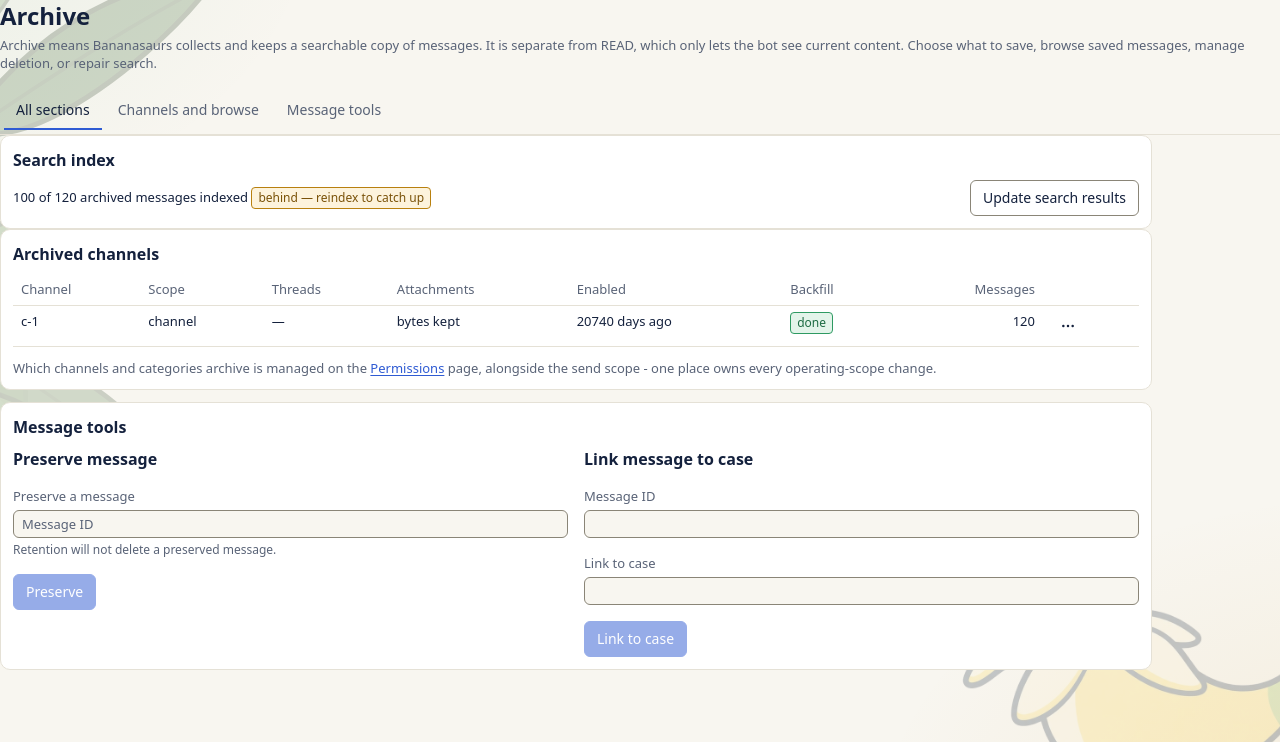
Test: ArchivePage › browse lists a channel newest-first, marks tombstones, and opens one message
Click the button named "Actions for c-1" at (1068, 326), box x1=1051 y1=312 x2=1085 y2=340
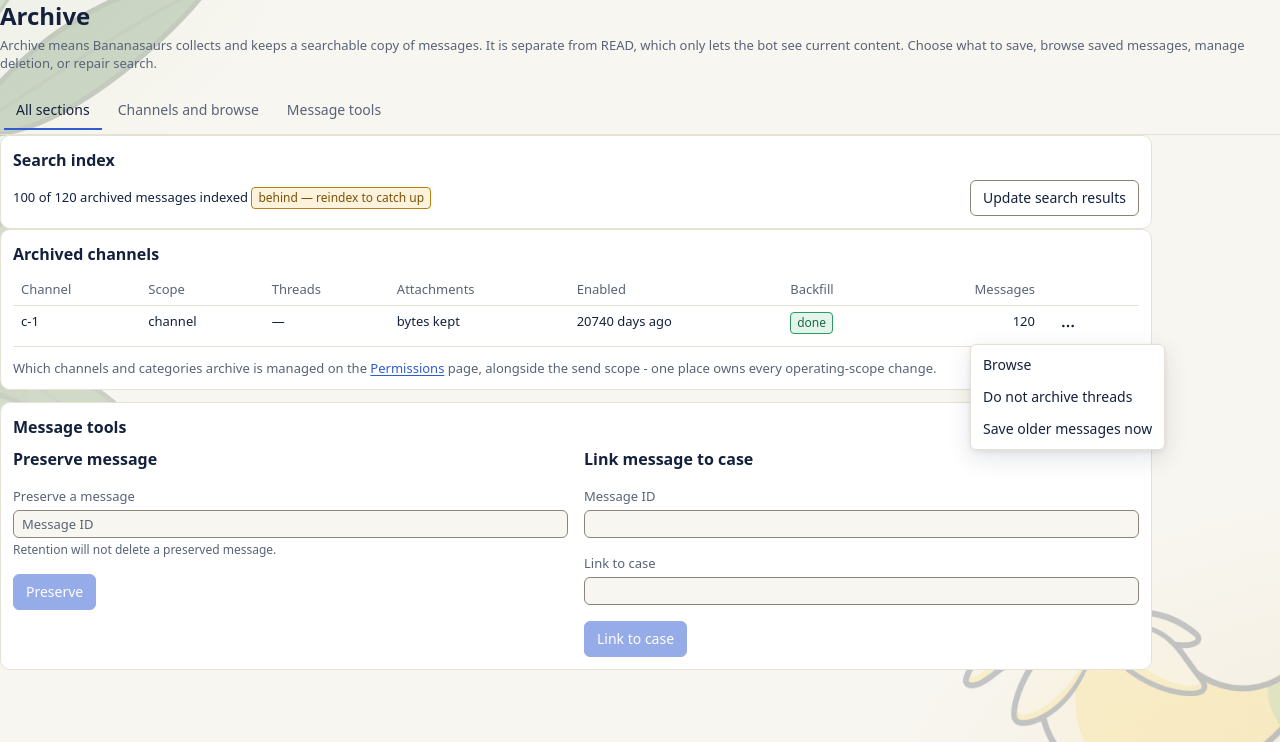
Click the menu item "Browse" at (1007, 364), box x1=983 y1=355 x2=1031 y2=374
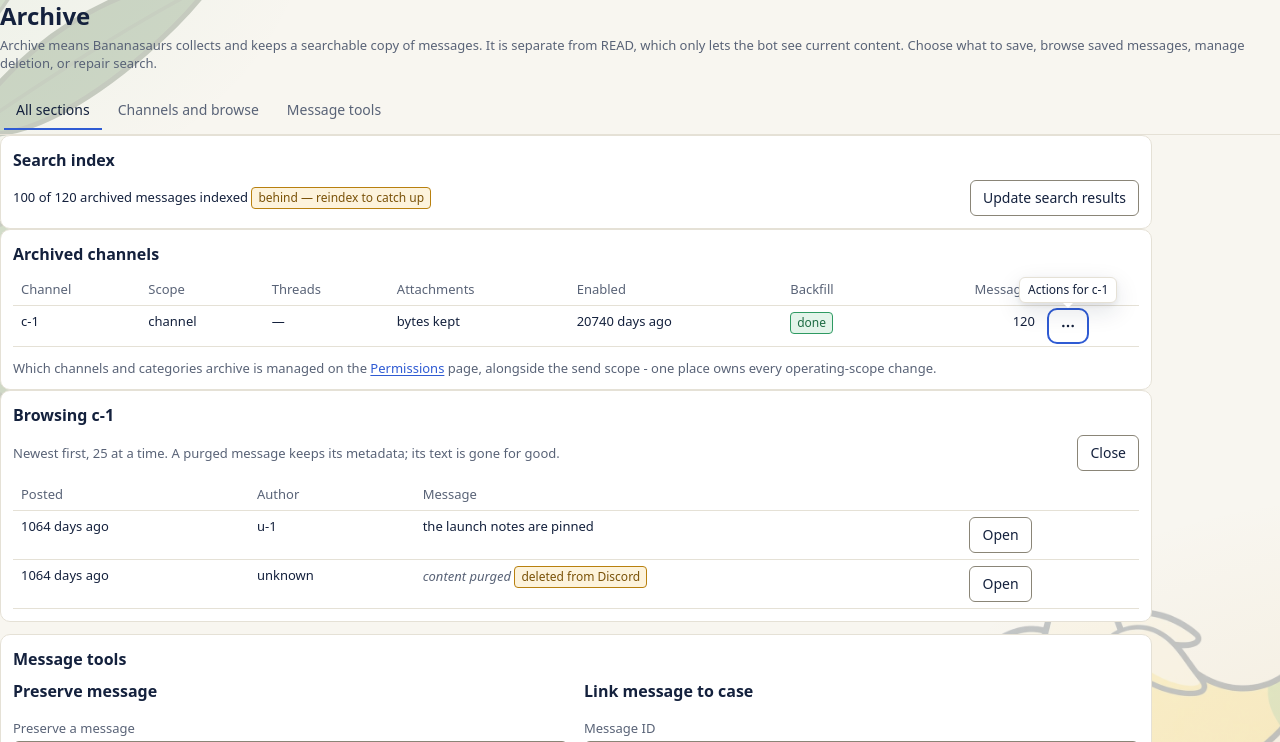
expect the text "the launch notes are pinned" is shown: met, box x1=423 y1=517 x2=594 y2=535
expect the text "content purged" is shown: met, box x1=423 y1=567 x2=511 y2=585
expect the text "deleted from Discord" is shown: met, box x1=514 y1=566 x2=647 y2=588
Click the button "Open" in the row of "u-1" at (1001, 535), box x1=970 y1=517 x2=1032 y2=553
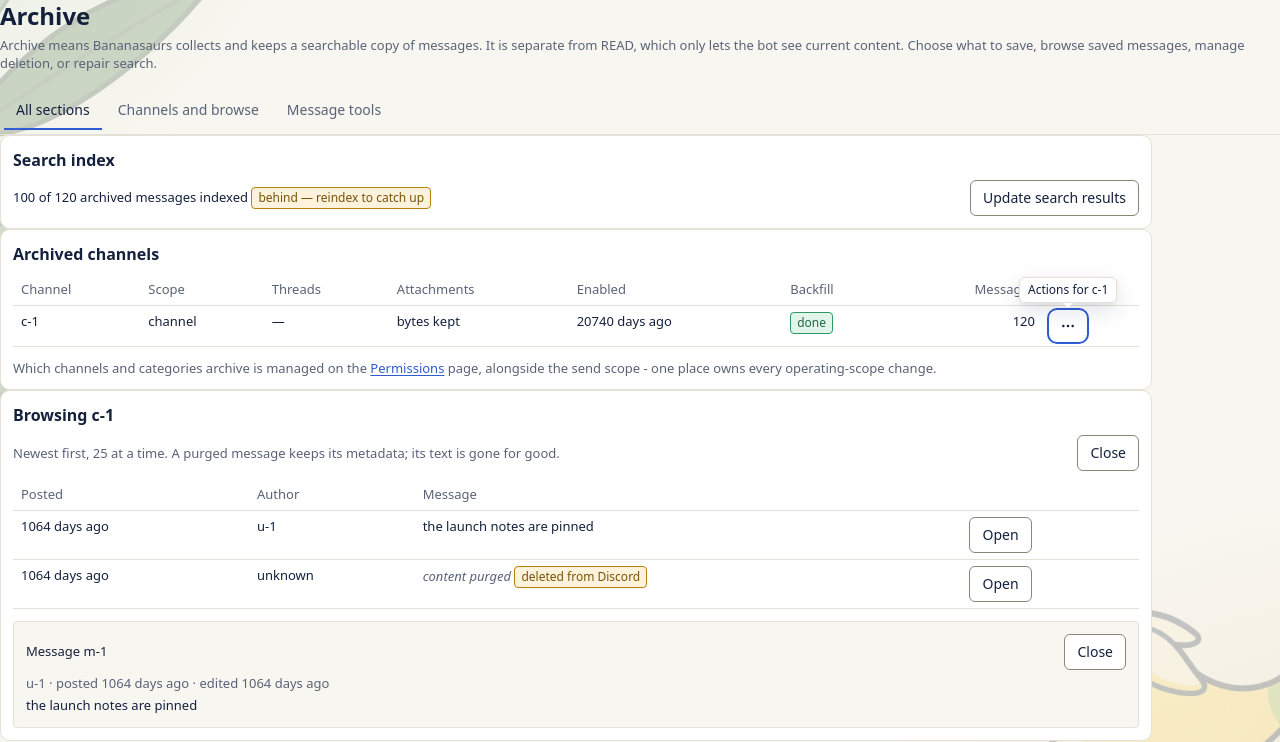
expect the text "Message m-1" is shown: met, box x1=26 y1=642 x2=107 y2=661
expect the element named "Archived message m-1" shows "edited": met, box x1=193 y1=674 x2=242 y2=692
